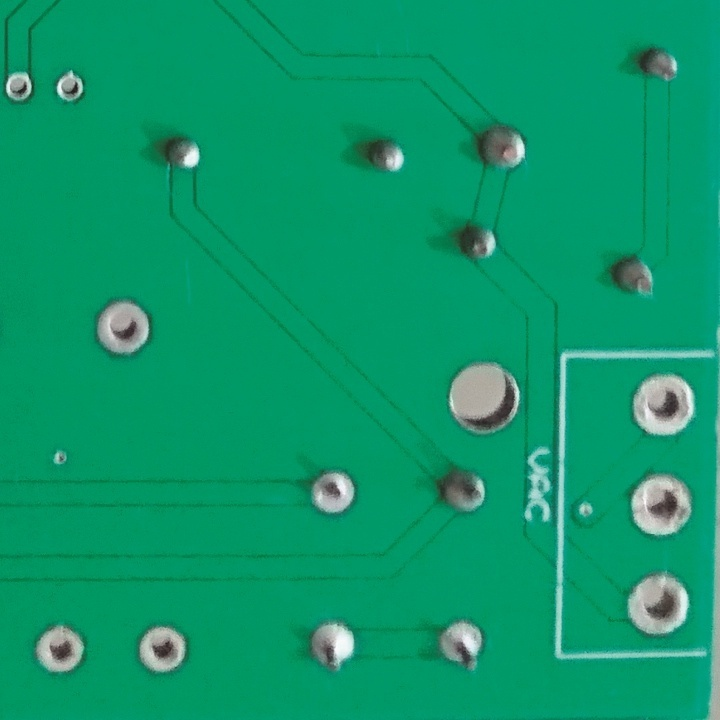F: (626, 469, 699, 541), (620, 568, 692, 638), (628, 372, 696, 442), (94, 295, 153, 362), (308, 617, 367, 676), (34, 623, 92, 675), (437, 620, 490, 675), (136, 624, 188, 679), (310, 465, 358, 523), (55, 69, 89, 108), (4, 72, 39, 104)
